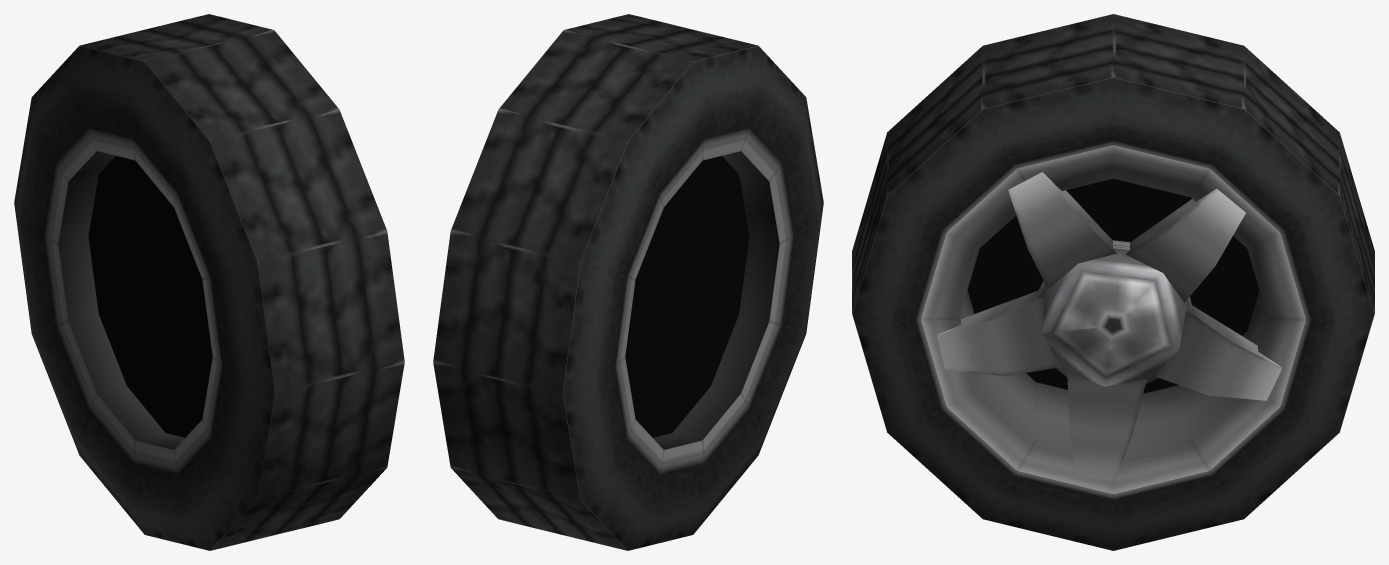
File: DefaultWheel_flash.glb
The picture shows the model from 3 angles, left to right: view 1: azimuth 30°, elevation 25°; view 2: azimuth 150°, elevation 25°; view 3: azimuth 270°, elevation 25°; orthographic projection.
Parts seen in each view (by area): view 1: wheel; view 2: wheel; view 3: wheel.
Part boxes in pixels (x1,y1,x2,y2): wheel: [14, 14, 404, 550]; wheel: [433, 14, 823, 550]; wheel: [852, 14, 1374, 550].
Size of the model in its own units: 0.2444 by 0.6558 by 0.6558.
Materials: 3 (3 with a texture image).
